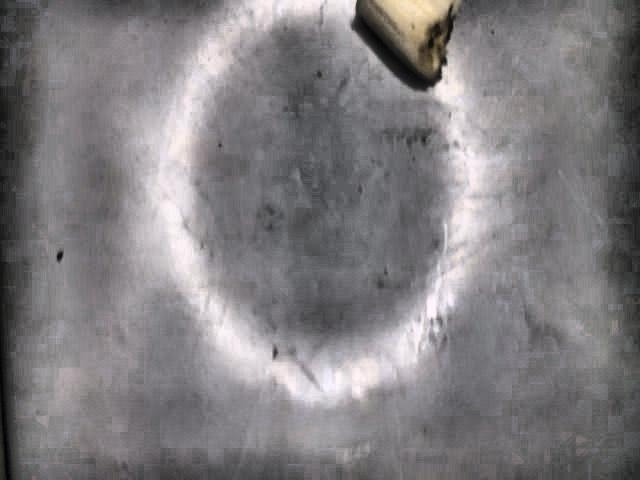Almennt: (353, 0, 462, 82)
